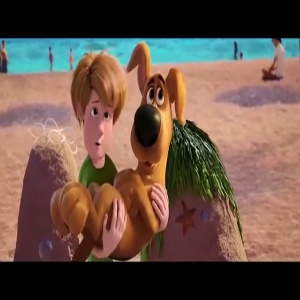Scooby: (126, 39, 186, 172)
Shagy: (67, 43, 122, 160)
